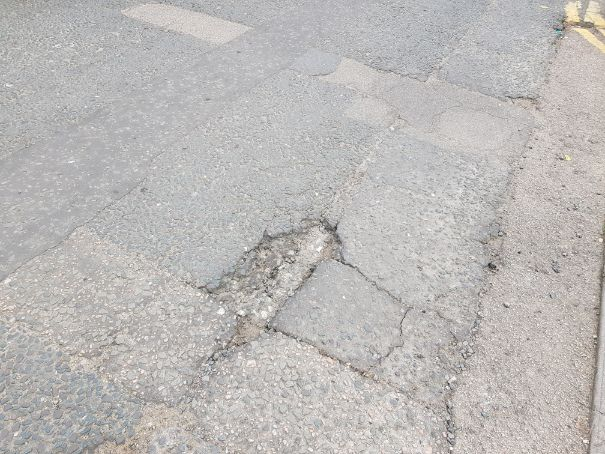pothole: (194, 212, 347, 353)
